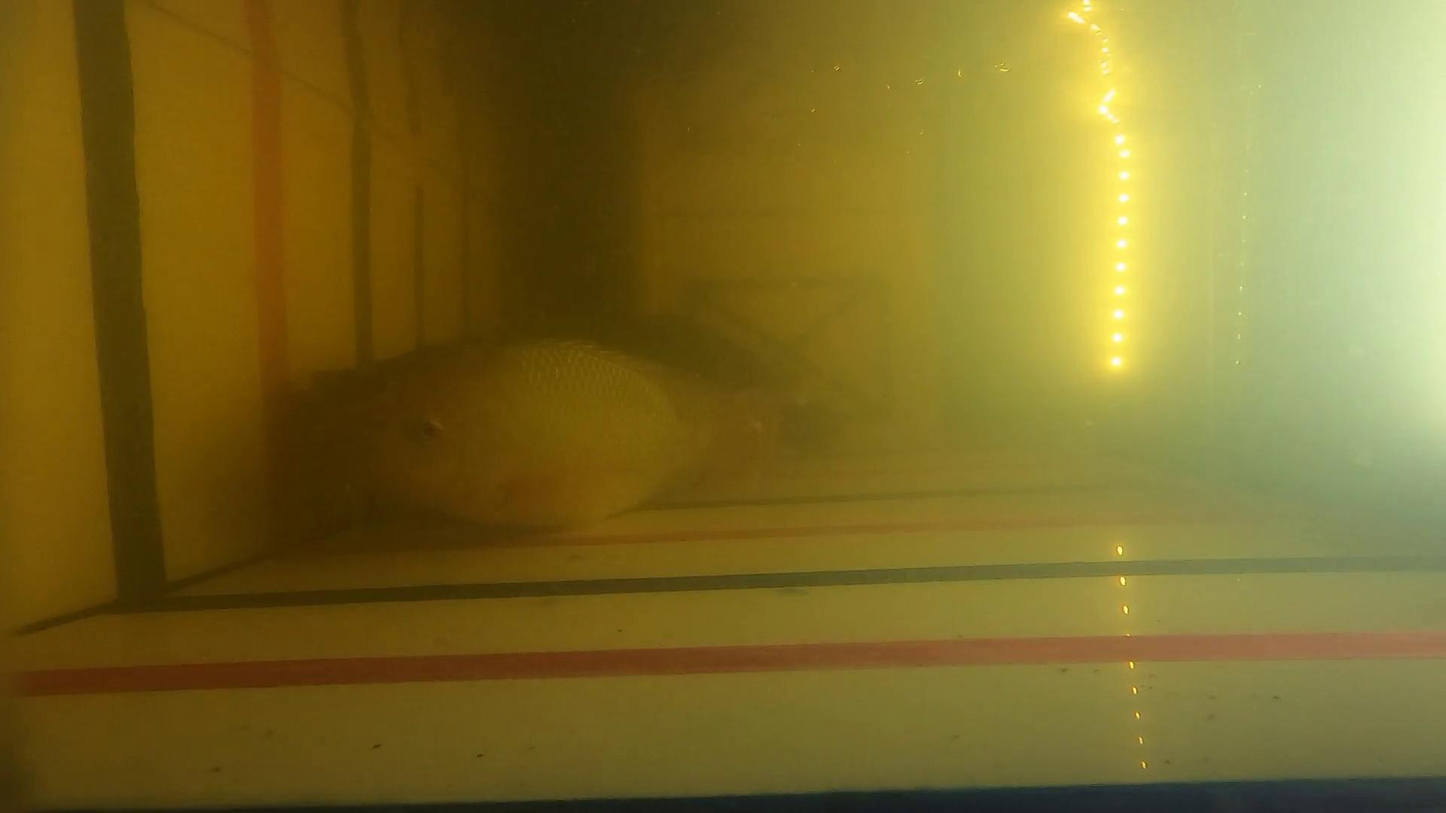Tilapia: (267, 331, 779, 552)
